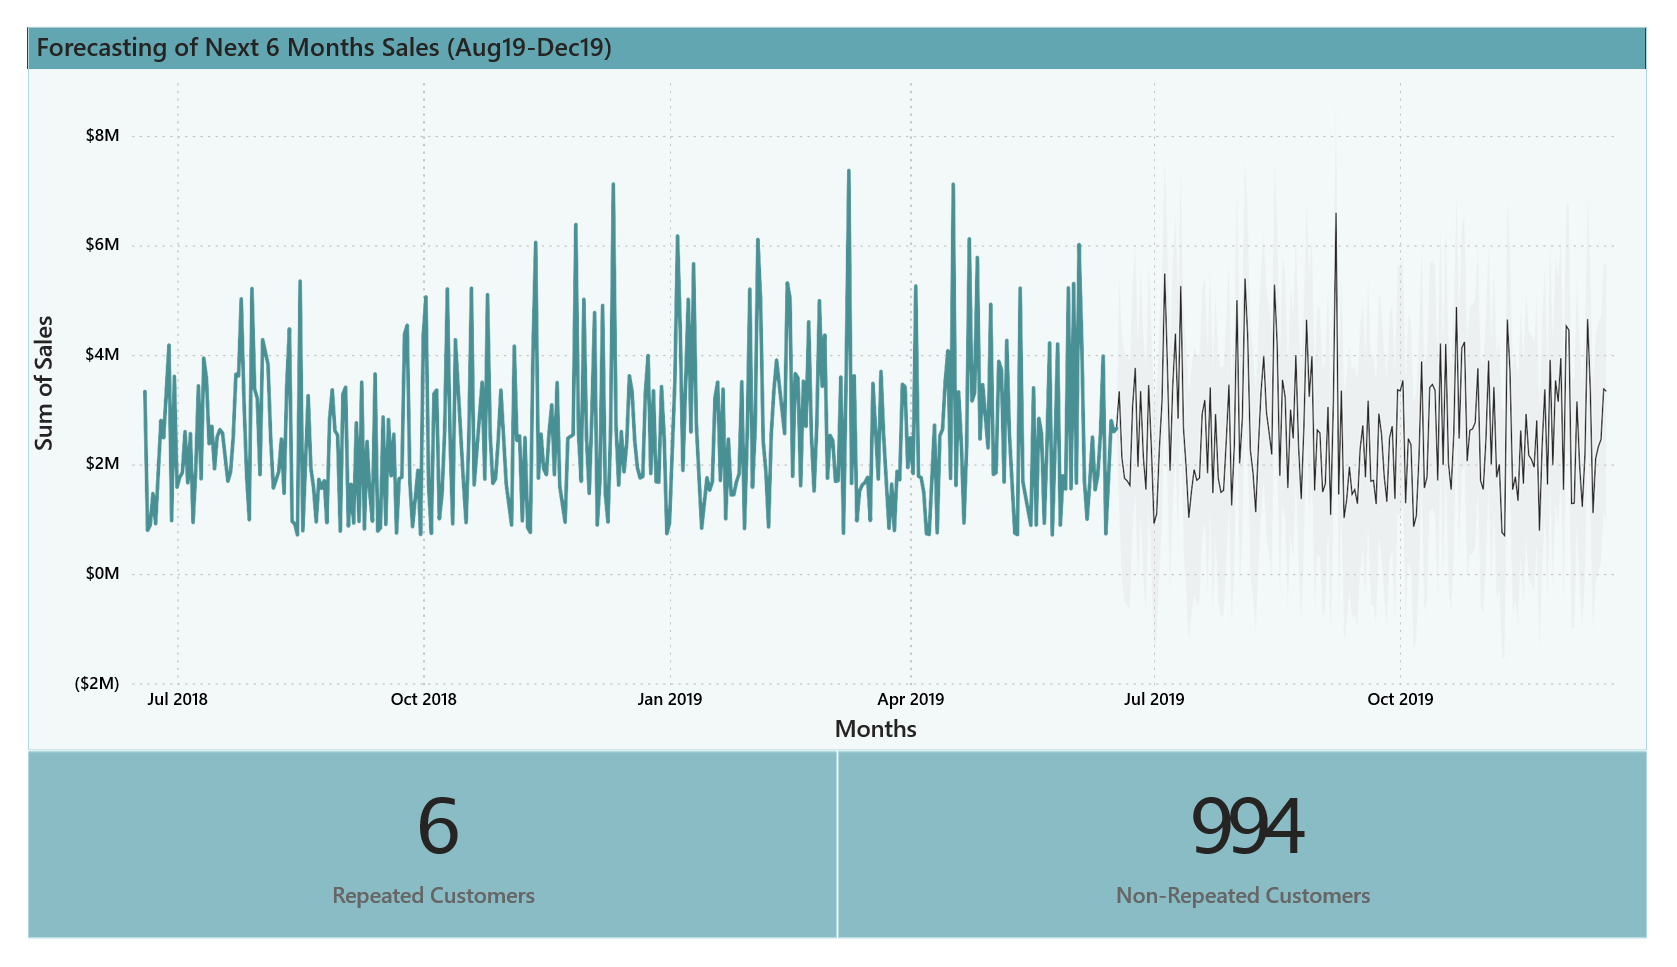

The dashboard page shown, as its layout file describes it:
{"tool":"powerbi","page":{"name":"Forecasting","canvas":[1280,720],"ordinal":2},"visuals":[{"type":"lineChart","title":"Forecasting of Next 6 Months Sales (Aug19-Dec19)","fields":{"Y":["Sum(CarSupplyChainManagement DataSe.Sales)"],"Category":["CarSupplyChainManagement DataSe.OrderDate.Variation.Date Hierarchy.Year","CarSupplyChainManagement DataSe.OrderDate.Variation.Date Hierarchy.Quarter","CarSupplyChainManagement DataSe.OrderDate.Variation.Date Hierarchy.Month","CarSupplyChainManagement DataSe.OrderDate.Variation.Date Hierarchy.Day"]},"box":[0,0,1280,572],"z":0},{"type":"card","fields":{"Values":["CarSupplyChainManagement DataSe.Repeated Customers"]},"box":[0,572,640,148.2],"z":1000},{"type":"card","fields":{"Values":["Count(CarSupplyChainManagement DataSe.CustomerID)"]},"box":[640,572,640,148.2],"z":2000}]}

Visuals, with their boxes in screenshot pixels (x1, y1, x2, y2), scaled from the page's 1280x720 canvas onto the 1677x967 screenshot:
"Forecasting of Next 6 Months Sales (Aug19-Dec19)" lineChart: box=[0, 0, 1676, 768]
card - CarSupplyChainManagement DataSe.Repeated Customers: box=[0, 768, 838, 966]
card - Count(CarSupplyChainManagement DataSe.CustomerID): box=[838, 768, 1676, 966]
